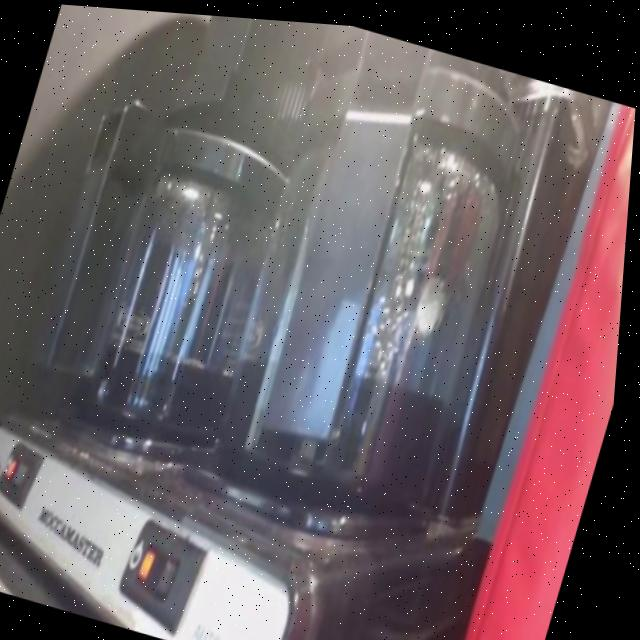coffee: (200, 13, 572, 544), (18, 40, 360, 498)
